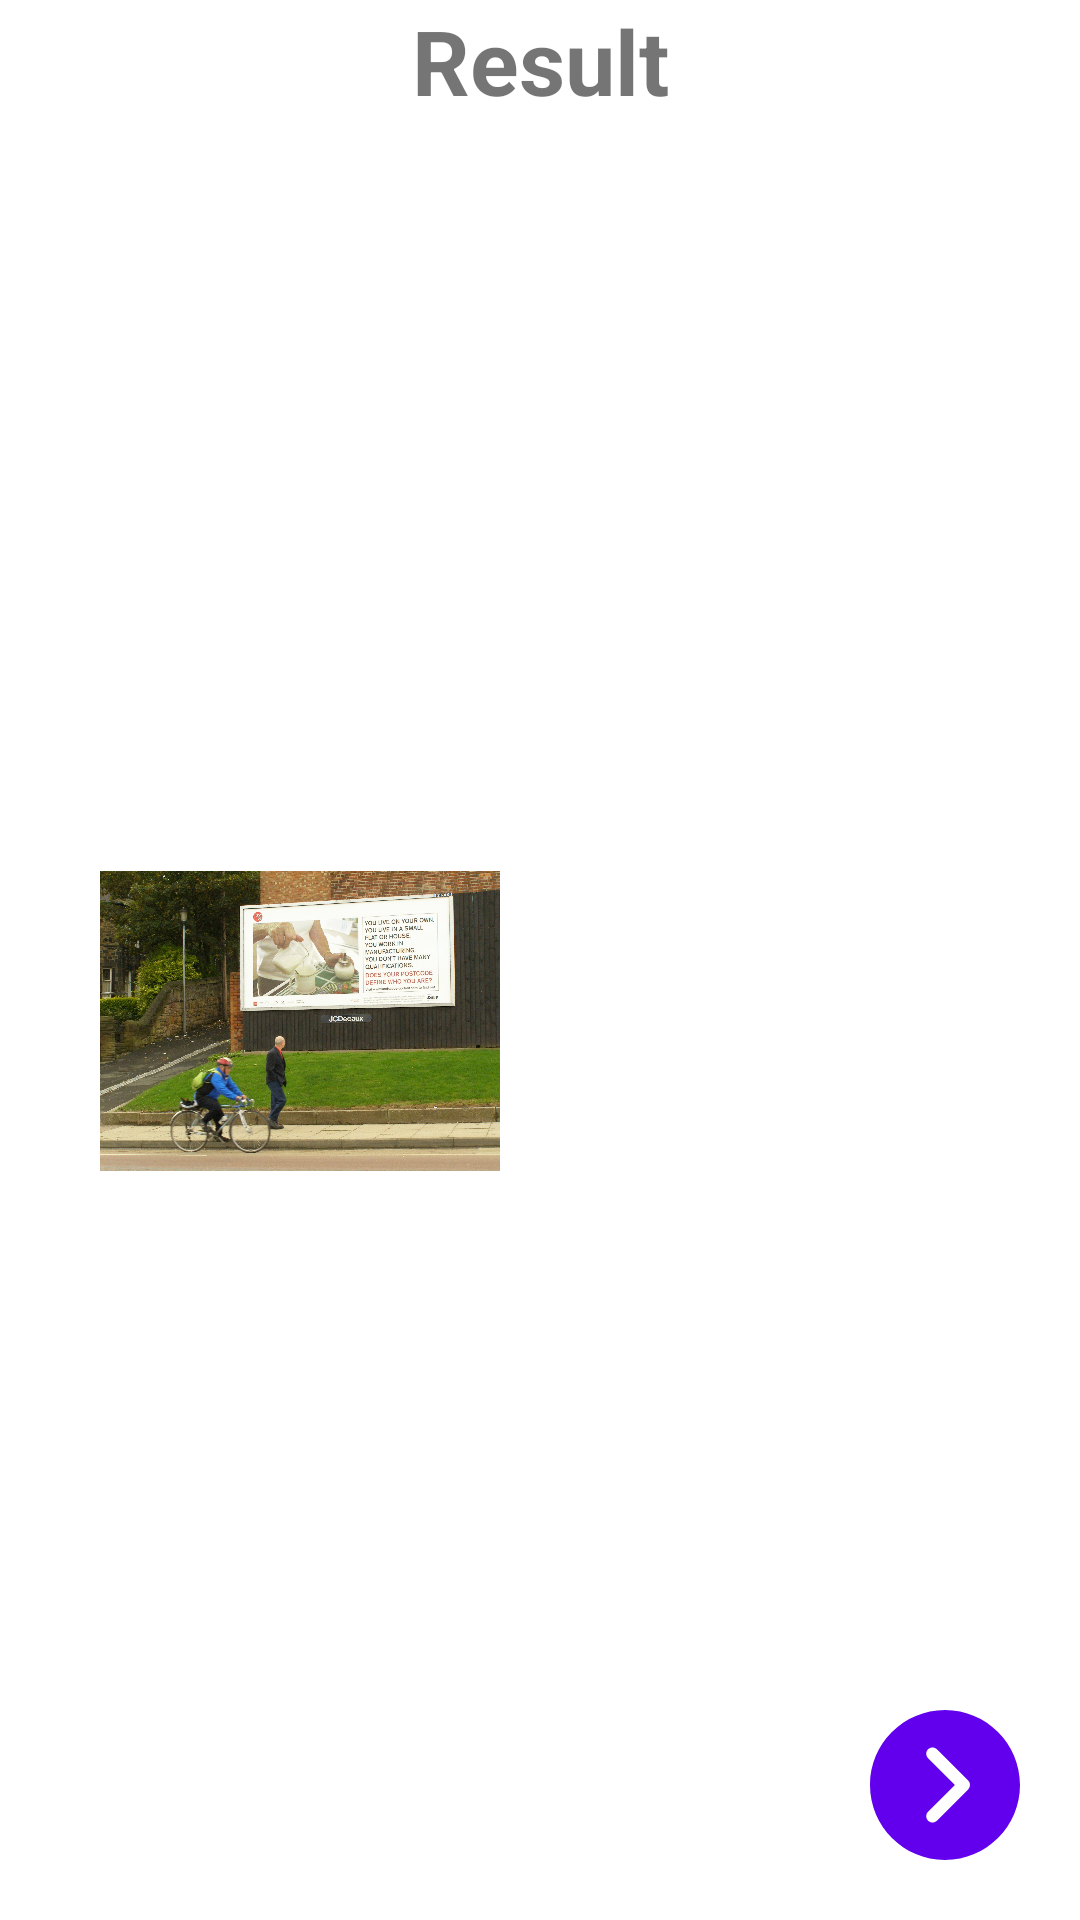

Icon click points for this 1080 × 1920 phone screenshot, format [x,y]:
next: [945,1785]
